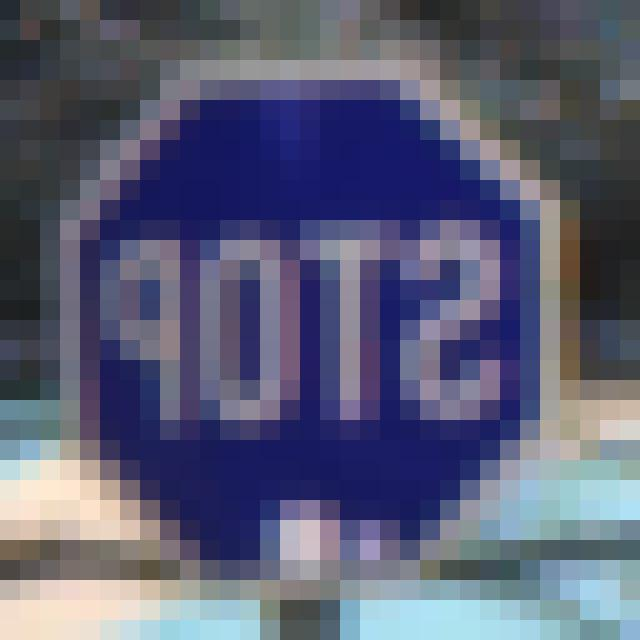STOP: (78, 75, 549, 574)
